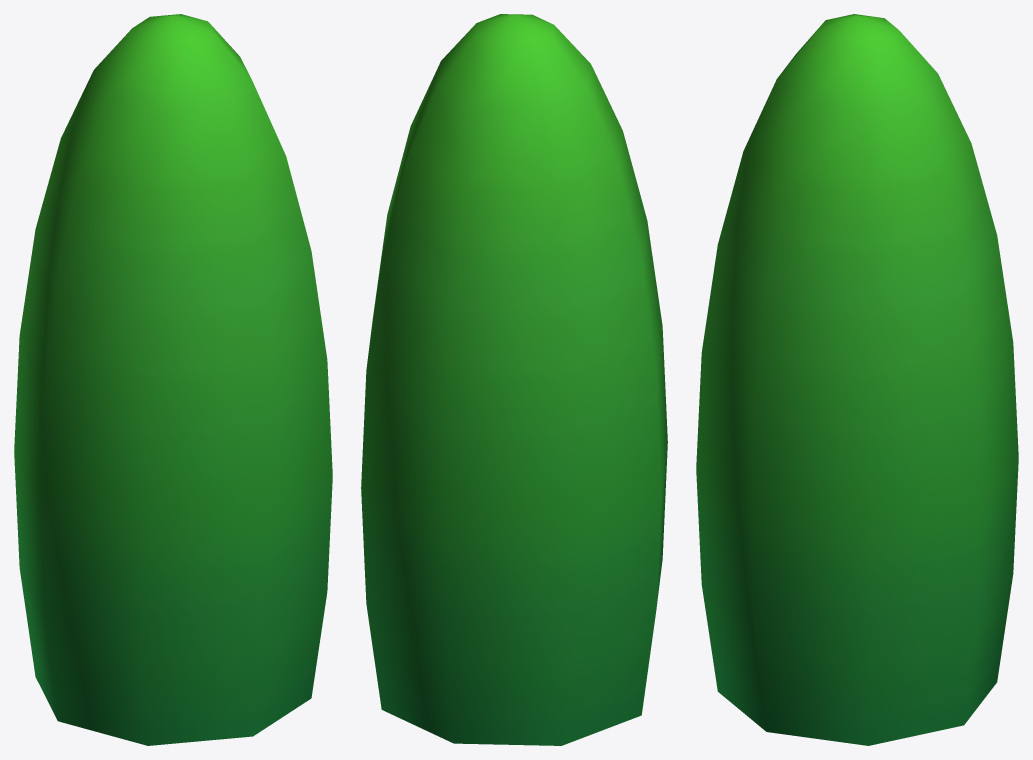
File: Bush_2_A_1.fbx
3 views of the same model, side by side, from view 1: azimuth 30°, elevation 25°; view 2: azimuth 150°, elevation 25°; view 3: azimuth 270°, elevation 25° (orthographic).
Parts seen in each view (by area): view 1: Bush_2_A_1; view 2: Bush_2_A_1; view 3: Bush_2_A_1.
Boxes of the visible parts, left/top/right/bottom form: Bush_2_A_1: left=14, top=14, right=332, bottom=745; Bush_2_A_1: left=361, top=14, right=667, bottom=745; Bush_2_A_1: left=696, top=14, right=1018, bottom=745.
Size of the model in its own units: 69.38 by 159 by 69.38.
